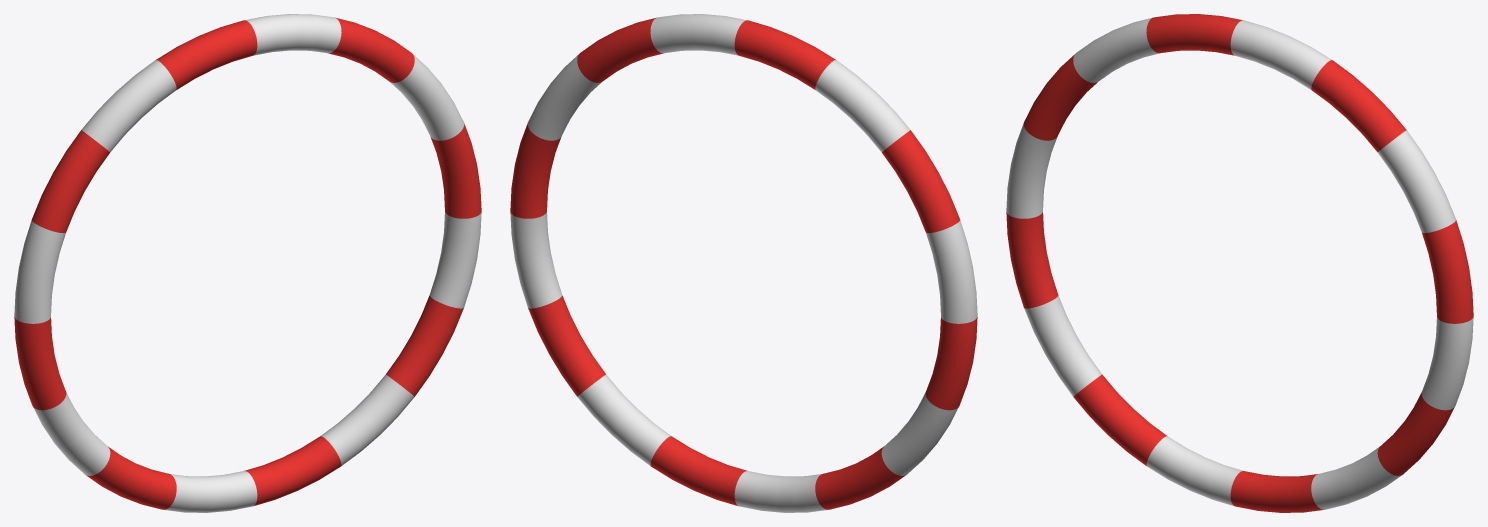
File: Rings.fbx
3 views of the same model, side by side, from view 1: azimuth 30°, elevation 25°; view 2: azimuth 150°, elevation 25°; view 3: azimuth 330°, elevation 25° (orthographic).
Visible parts, largest first — view 1: Torus; view 2: Torus; view 3: Torus.
Part boxes in pixels (left/top/right/bottom): Torus: left=14, top=14, right=481, bottom=512; Torus: left=510, top=14, right=977, bottom=512; Torus: left=1006, top=14, right=1473, bottom=512.
Size of the model in its own units: 628 by 628 by 43.95.
